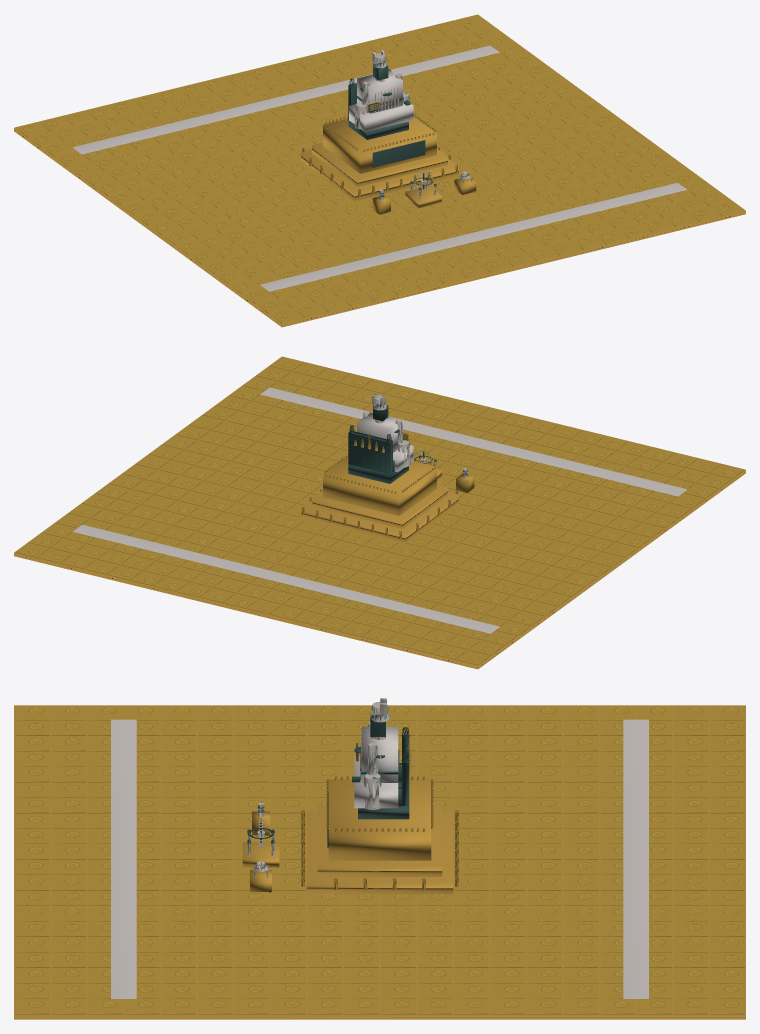
3 renders of one model, top to bottom at view 1: azimuth 30°, elevation 25°; view 2: azimuth 150°, elevation 25°; view 3: azimuth 270°, elevation 25°, orthographic. The views are drawn at different scales.
Parts seen in each view (by area): view 1: sejong_plaza_ground, sejong_granite_pedestal, sejong_golden_statue, sejong_scientific_inventions, sejong_royal_throne; view 2: sejong_plaza_ground, sejong_granite_pedestal, sejong_royal_throne, sejong_golden_statue, sejong_scientific_inventions; view 3: sejong_plaza_ground, sejong_granite_pedestal, sejong_golden_statue, sejong_scientific_inventions, sejong_royal_throne.
Boxes of the visible parts, bbox=[...] form: sejong_plaza_ground: bbox=[14, 14, 745, 327]; sejong_granite_pedestal: bbox=[301, 114, 458, 201]; sejong_golden_statue: bbox=[349, 50, 413, 131]; sejong_scientific_inventions: bbox=[372, 171, 476, 214]; sejong_royal_throne: bbox=[348, 69, 408, 139]; sejong_plaza_ground: bbox=[14, 356, 745, 669]; sejong_granite_pedestal: bbox=[301, 454, 458, 543]; sejong_royal_throne: bbox=[348, 425, 408, 483]; sejong_golden_statue: bbox=[356, 394, 413, 471]; sejong_scientific_inventions: bbox=[414, 450, 474, 493]; sejong_plaza_ground: bbox=[14, 705, 745, 1019]; sejong_granite_pedestal: bbox=[301, 776, 458, 894]; sejong_golden_statue: bbox=[352, 698, 399, 810]; sejong_scientific_inventions: bbox=[242, 803, 279, 892]; sejong_royal_throne: bbox=[358, 727, 411, 819].
Size of the model in its own units: 40 by 9.85 by 40.
4 materials, 4 textured.
